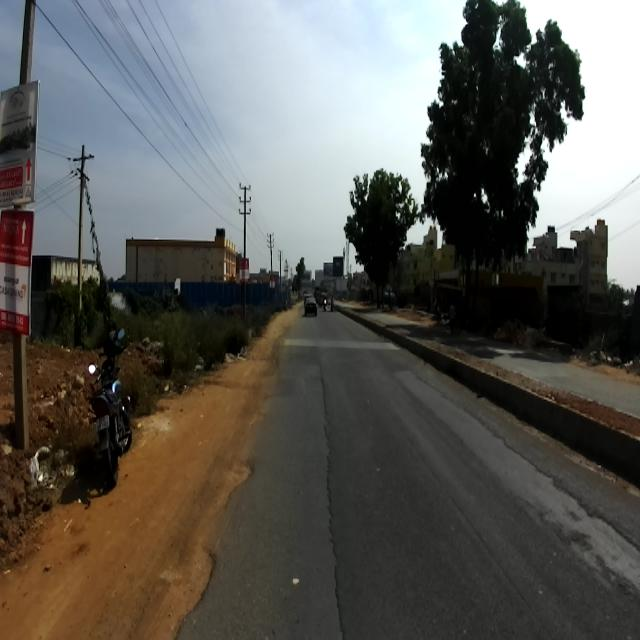motorcycle ahead at: (82, 319, 134, 497)
